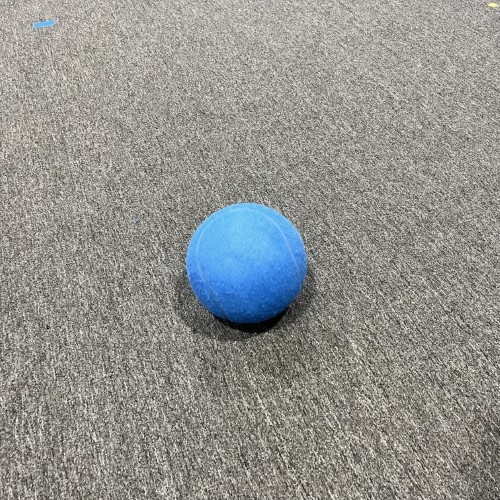blue: (184, 201, 309, 324)
